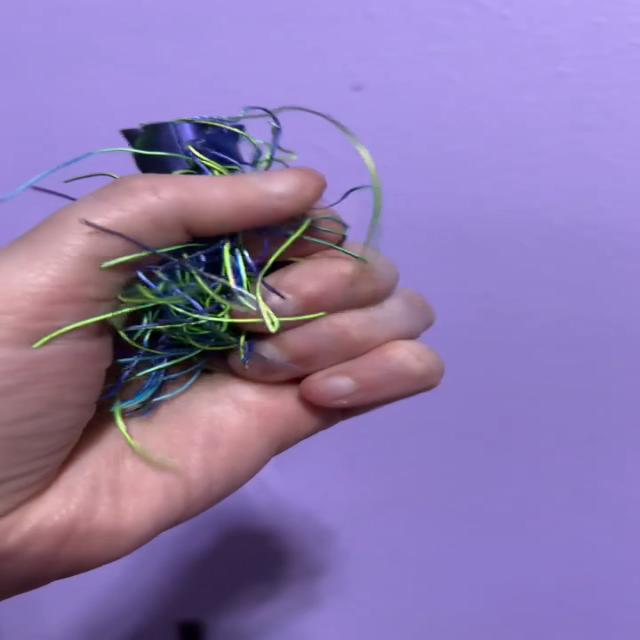spaghetti: (0, 124, 311, 431)
